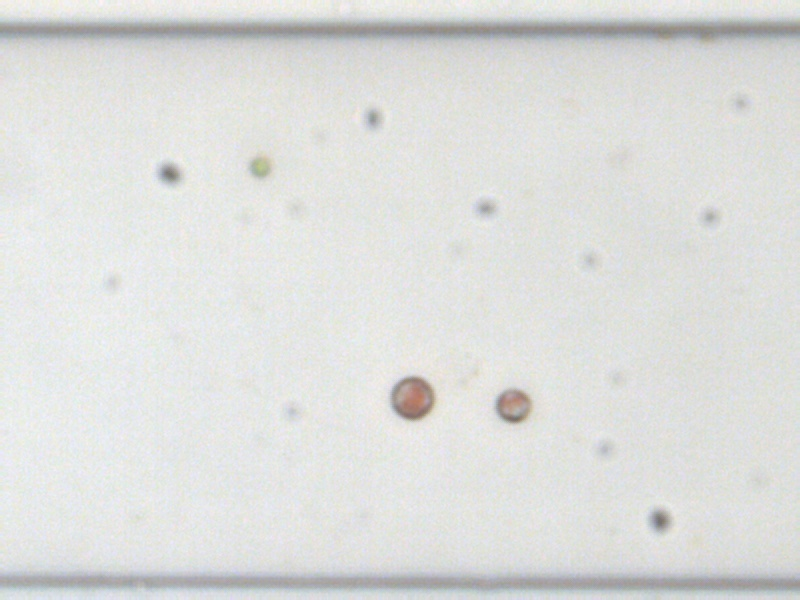Chlorella: (248, 154, 273, 177)
Porphyridium: (386, 371, 437, 424), (492, 385, 532, 424)
